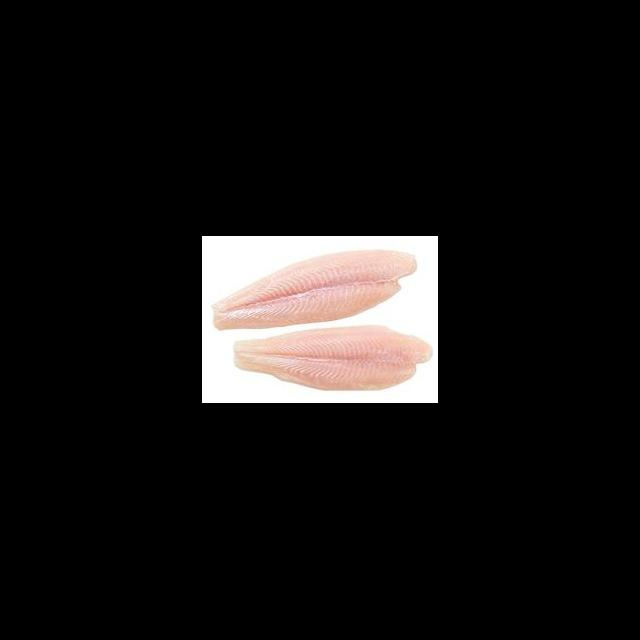fish: (208, 248, 429, 333), (220, 322, 438, 393)
